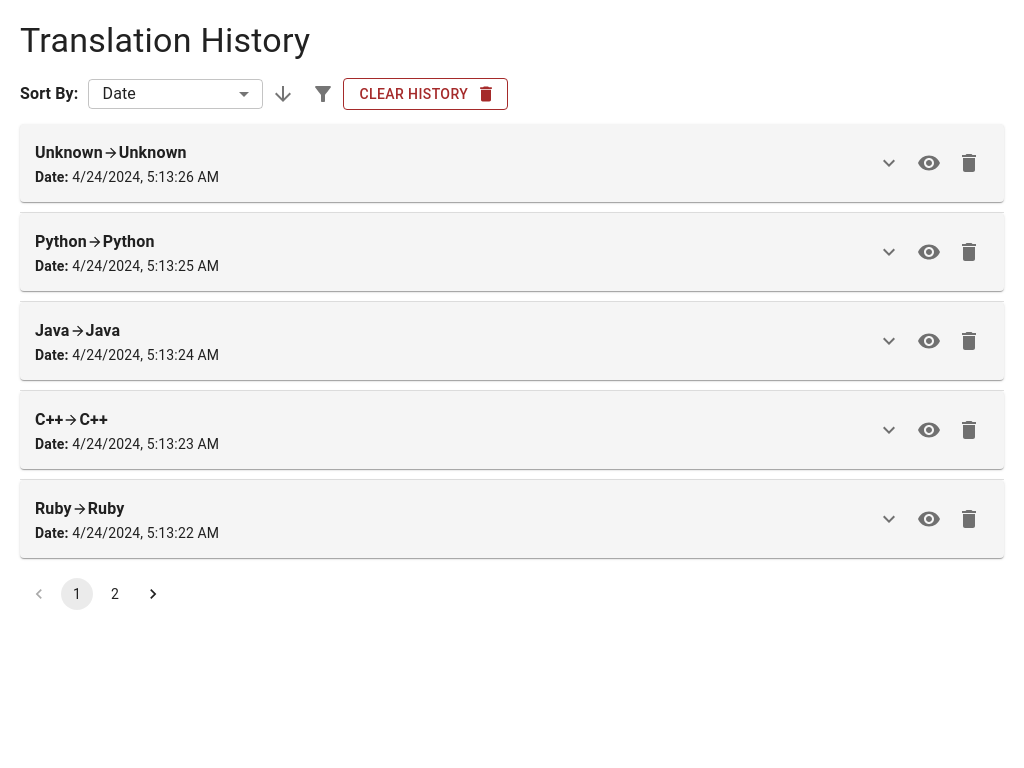
Test case: TranslationHistory Component › renders filtering correctly
This screenshot has width=1024, height=768.
Expected: the text "Input Languages:" is not shown
Expected: the text "Output Languages:" is not shown
What coordinates should you click on to do the following:
click the button named "filterButton"
I would click on:
 (324, 94)
Its box is [304,74,344,114].
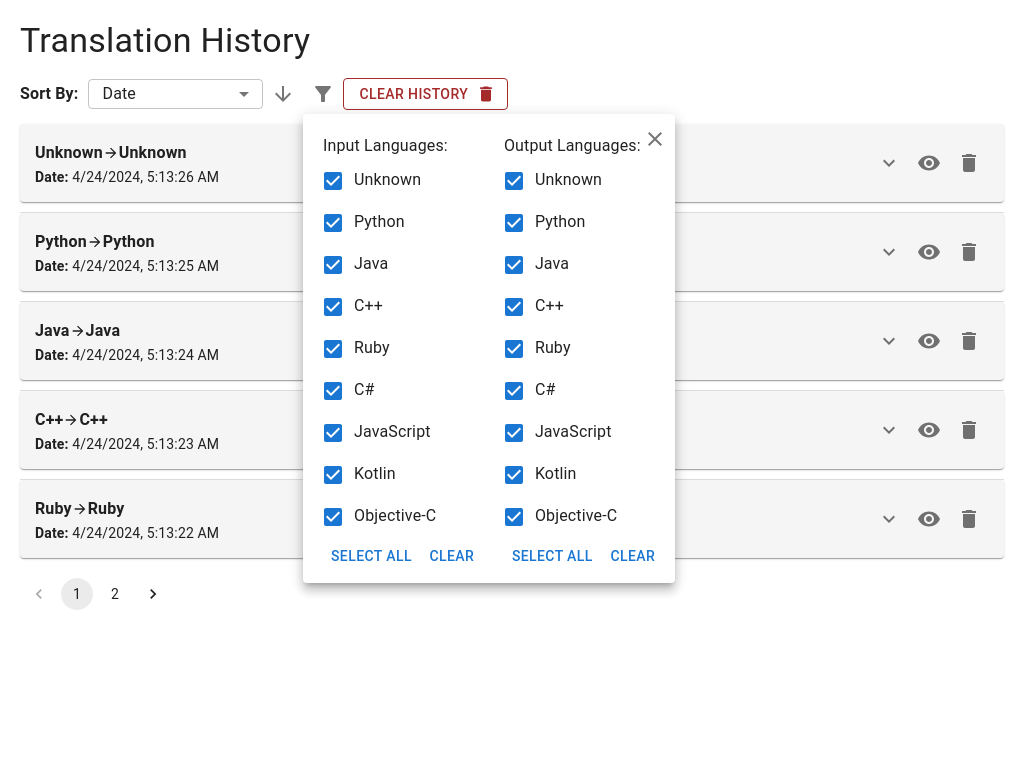
Expected: the heading "Input Languages:" is shown, [323,136,448,155]
Expected: the heading "Output Languages:" is shown, [504,132,665,160]
Expected: the element named "inputPythonCheckbox" is shown, [321,211,345,235]
